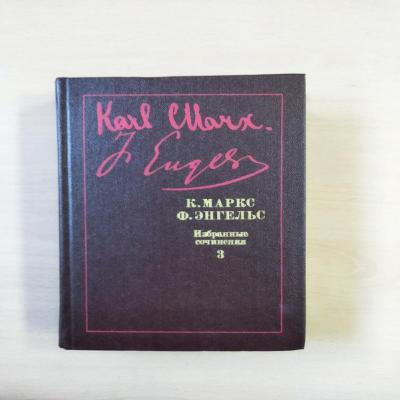rare_books: (54, 74, 307, 354)
